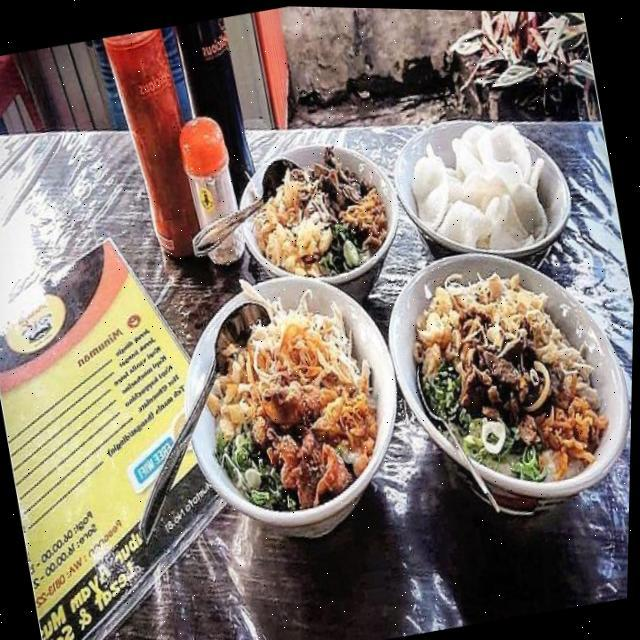bubur ayam: (396, 245, 622, 506), (182, 255, 398, 526), (240, 139, 394, 289)
mangkuk: (368, 222, 636, 540), (158, 253, 426, 560), (383, 100, 584, 288), (228, 131, 418, 323)
